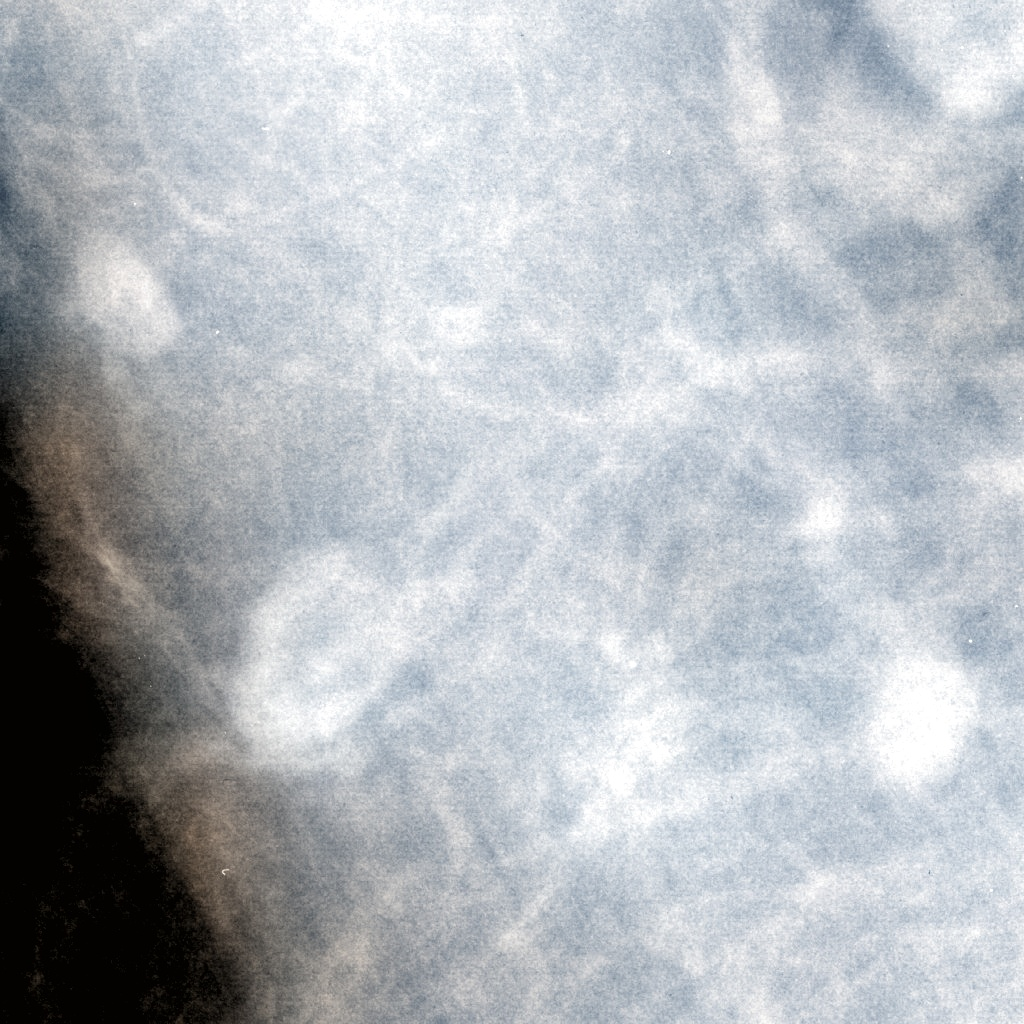tumor: (187, 546, 436, 787), (820, 603, 1010, 803), (14, 221, 204, 399)
